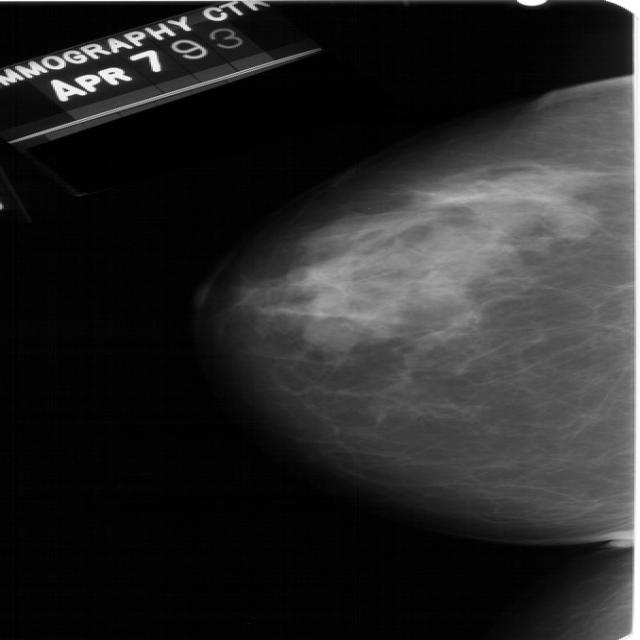tumour: (540, 199, 598, 238)
